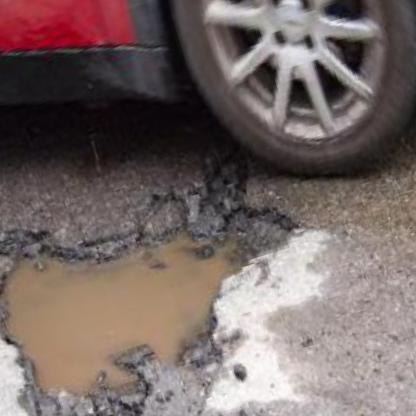pothole: (0, 179, 308, 405)
